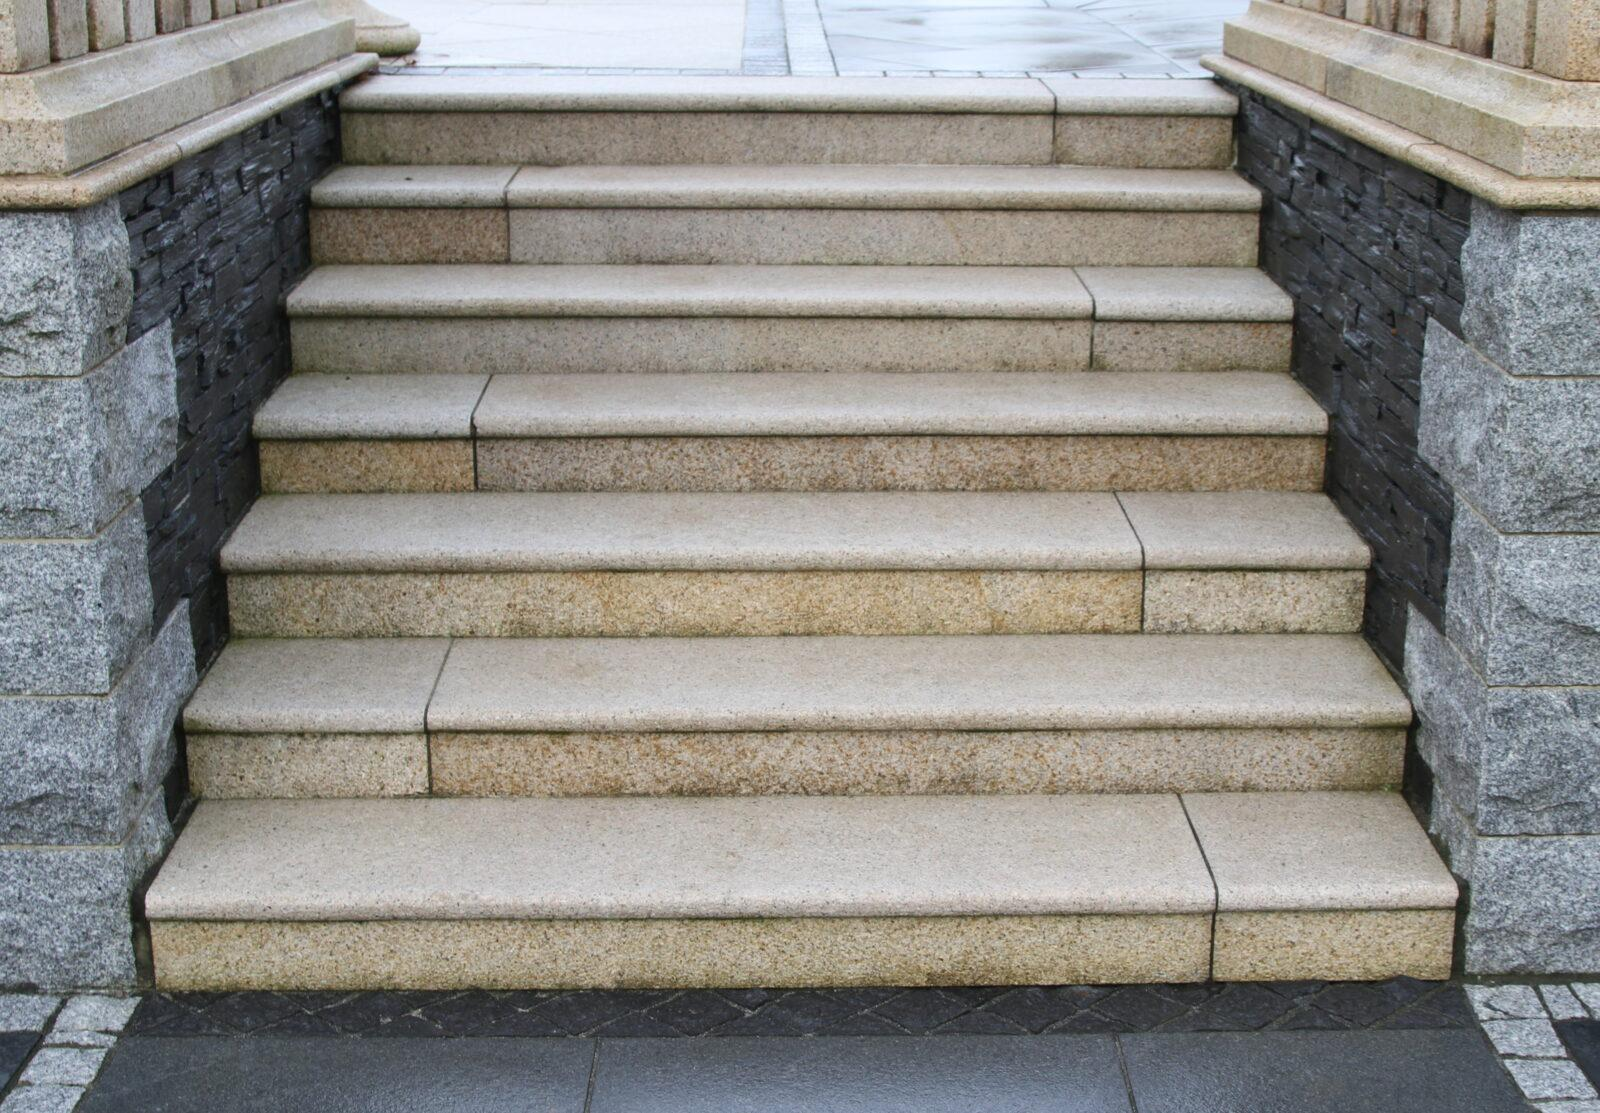upstairs: (299, 249, 1298, 1024)
